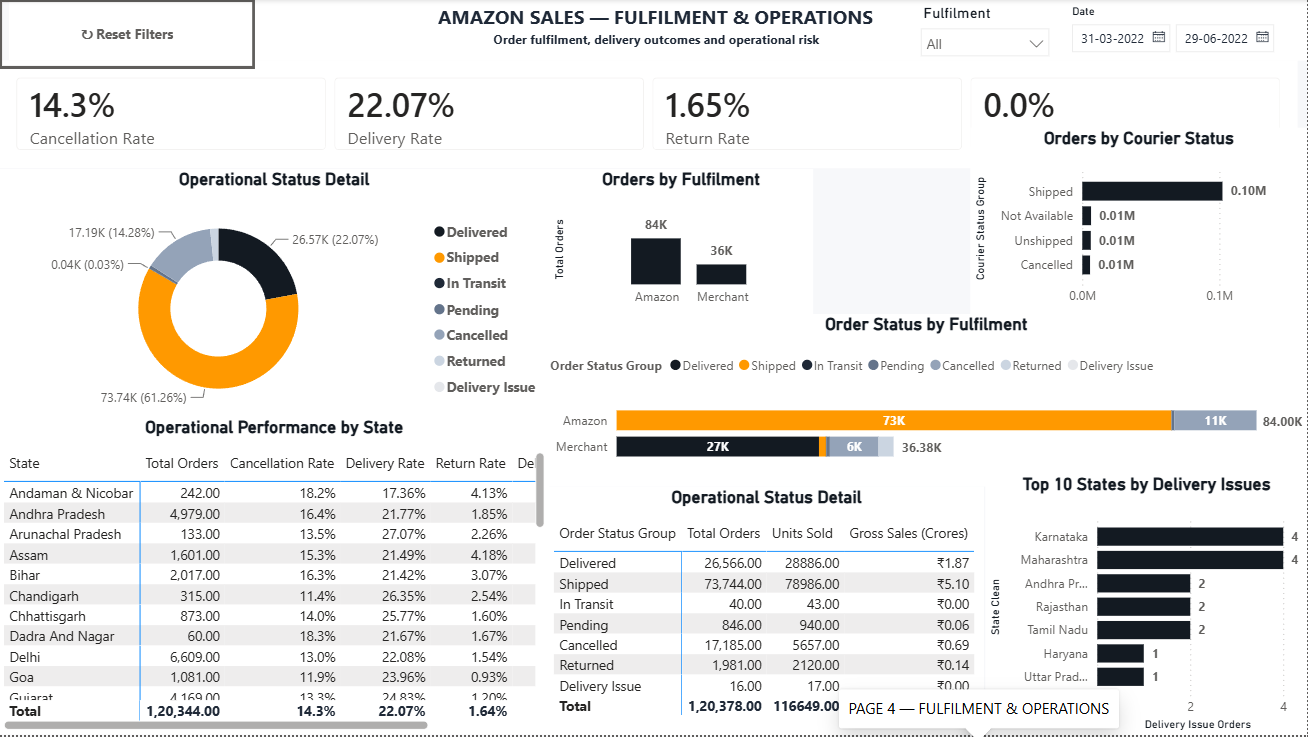

The page's visual inventory and layout, read from the dashboard file:
{"tool":"powerbi","page":{"name":"PAGE 4 — FULFILMENT & OPERATIONS","canvas":[1280,720],"ordinal":3},"visuals":[{"type":"textbox","box":[10,0,1270,60],"z":0},{"type":"slicer","fields":{"Values":["Dim_Date.Date"]},"box":[1037.1,0,242.9,60],"z":1000},{"type":"slicer","fields":{"Values":["Fact_Amazon_Sales.Fulfilment"]},"box":[891.4,0,145.7,60],"z":2000},{"type":"cardVisual","fields":{"Data":["_Measures.Cancellation Rate","_Measures.Delivery Rate","_Measures.Return Rate","_Measures.Delivery Issue Rate"]},"box":[0,60,1270,105.7],"z":3000},{"type":"donutChart","title":"Operational Status Detail","fields":{"Category":["Fact_Amazon_Sales.Order Status Group"],"Y":["Fact_Amazon_Sales.Total Orders"]},"box":[0,165.7,538.6,242.9],"z":4000},{"type":"clusteredColumnChart","title":"Orders by Fulfilment","fields":{"Category":["Fact_Amazon_Sales.Fulfilment"],"Y":["Fact_Amazon_Sales.Total Orders"]},"box":[538.6,165.7,258.6,142.9],"z":5000},{"type":"clusteredBarChart","title":"Orders by Courier Status","fields":{"Category":["Fact_Amazon_Sales.Courier Status Group"],"Y":["Fact_Amazon_Sales.Total Orders"]},"box":[950,125.7,330,182.9],"z":6000},{"type":"barChart","title":"Order Status by Fulfilment","fields":{"Category":["Fact_Amazon_Sales.Fulfilment"],"Y":["Fact_Amazon_Sales.Total Orders"],"Series":["Fact_Amazon_Sales.Order Status Group"]},"box":[534.3,308.6,745.7,168.6],"z":7000},{"type":"pivotTable","title":"Operational Performance by State","fields":{"Rows":["Fact_Amazon_Sales.State Clean"],"Values":["Fact_Amazon_Sales.Total Orders","_Measures.Cancellation Rate","_Measures.Delivery Rate","_Measures.Return Rate","_Measures.Delivery Issue Rate"]},"box":[0,408.6,538.6,311.4],"z":8000},{"type":"clusteredBarChart","title":"Top 10 States by Delivery Issues","fields":{"Category":["Fact_Amazon_Sales.State Clean"],"Y":["_Measures.Delivery Issue Orders"]},"box":[964.3,464.3,315.7,255.7],"z":9000},{"type":"pivotTable","title":"Operational Status Detail","fields":{"Rows":["Fact_Amazon_Sales.Order Status Group"],"Values":["Fact_Amazon_Sales.Total Orders","Fact_Amazon_Sales.Units Sold","_Measures.Gross Sales (Crores)"]},"box":[538.6,477.1,425.7,242.9],"z":10000},{"type":"actionButton","box":[0,0,250.7,68.5],"z":11000}]}

Visuals, with their boxes in screenshot pixels (x1, y1, x2, y2), scaled from the page's 1280x720 canvas onto the 1308x737 screenshot:
textbox: 10:0:1307:61
slicer - Dim_Date.Date: 1060:0:1307:61
slicer - Fact_Amazon_Sales.Fulfilment: 911:0:1060:61
cardVisual - _Measures.Cancellation Rate x _Measures.Delivery Rate: 0:61:1298:170
"Operational Status Detail" donutChart: 0:170:550:418
"Orders by Fulfilment" clusteredColumnChart: 550:170:815:316
"Orders by Courier Status" clusteredBarChart: 971:129:1307:316
"Order Status by Fulfilment" barChart: 546:316:1307:488
"Operational Performance by State" pivotTable: 0:418:550:736
"Top 10 States by Delivery Issues" clusteredBarChart: 985:475:1307:736
"Operational Status Detail" pivotTable: 550:488:985:736
actionButton: 0:0:256:70
